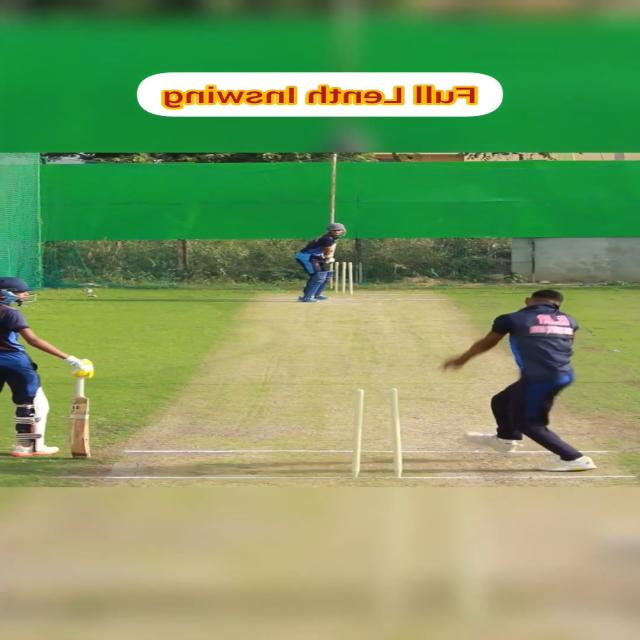stump: (348, 387, 404, 478), (334, 261, 354, 296)
